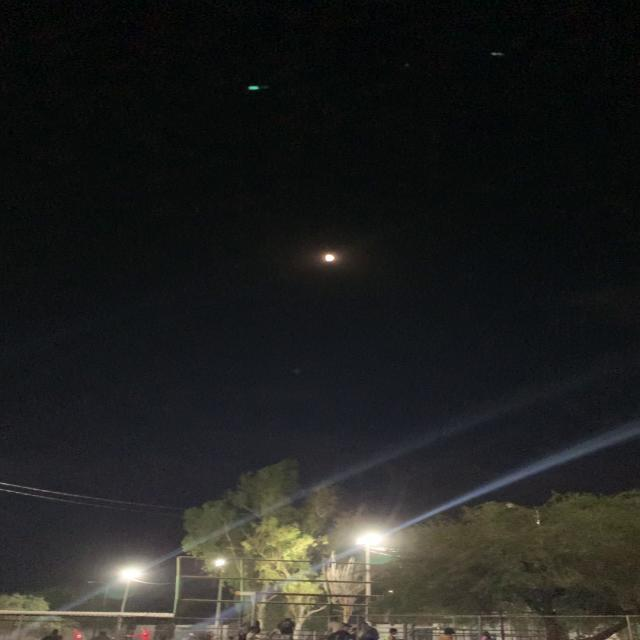moon: (322, 242, 351, 267)
